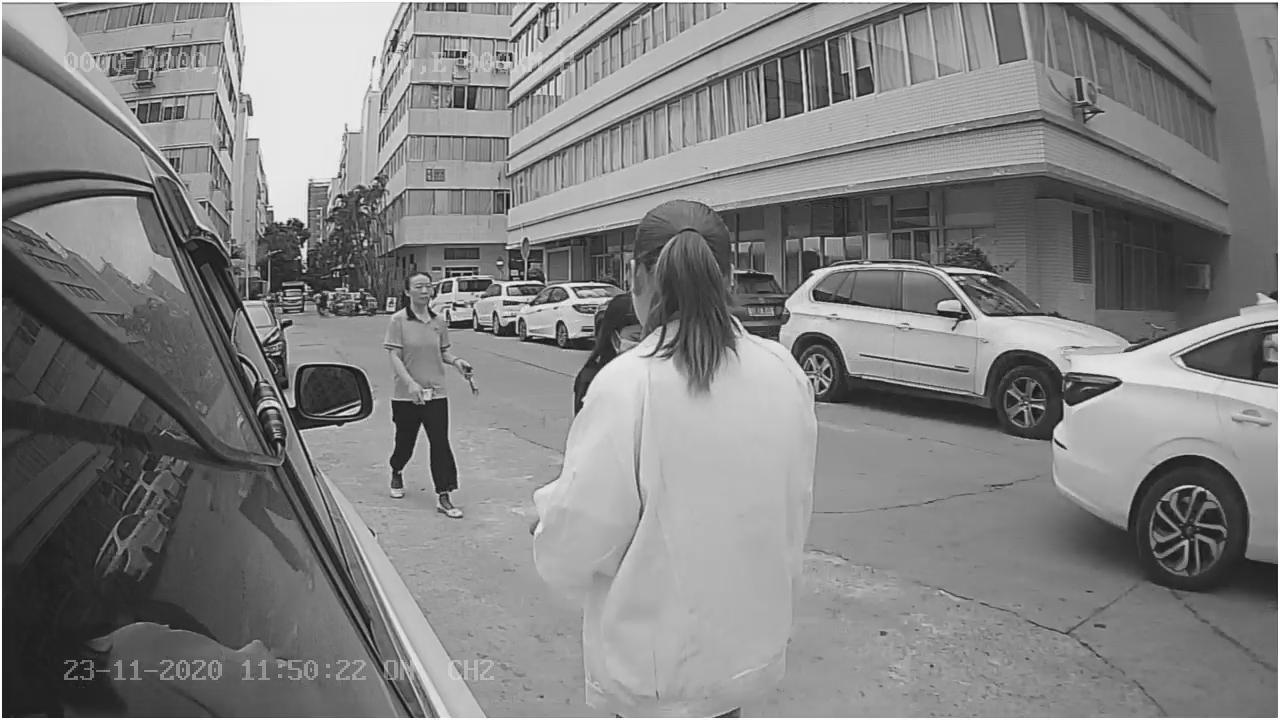person: (385, 258, 470, 521)
